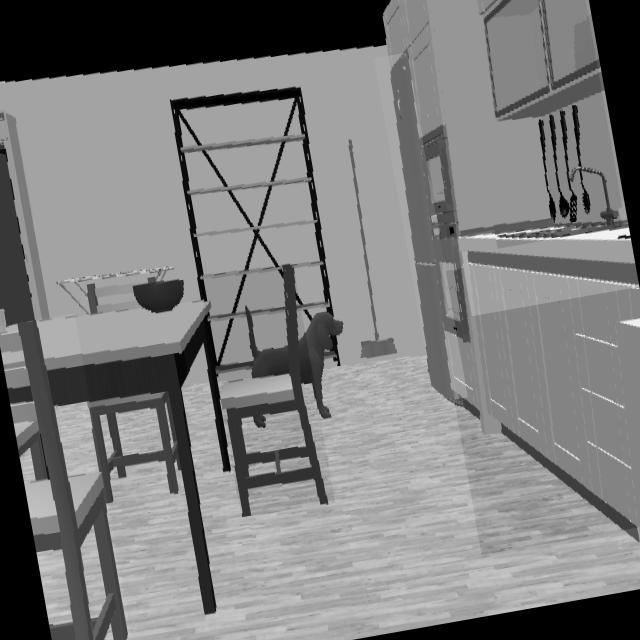cabinet: (444, 267, 640, 527), (383, 0, 602, 230)
chair: (0, 320, 128, 640), (221, 264, 329, 517)
countertop: (458, 222, 639, 286)
fridge: (390, 52, 454, 400)
sink: (496, 166, 619, 239)
table: (36, 301, 231, 615)
